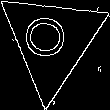O_E: (26, 17, 78, 65)
